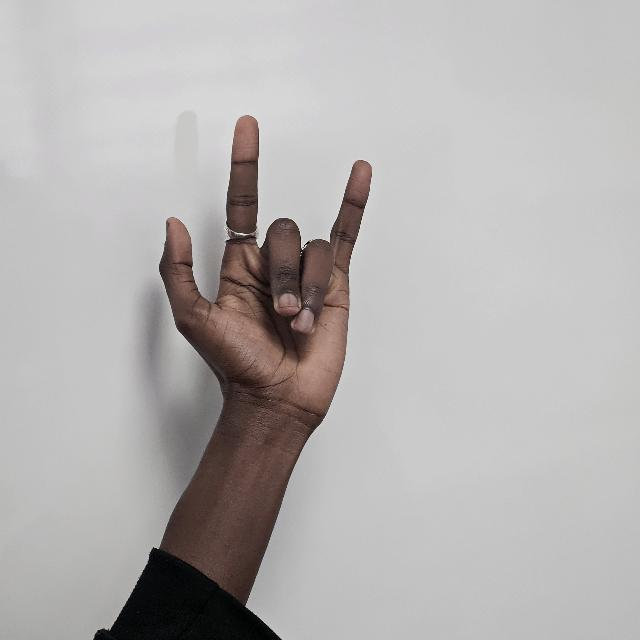Cima: (156, 115, 372, 428)
